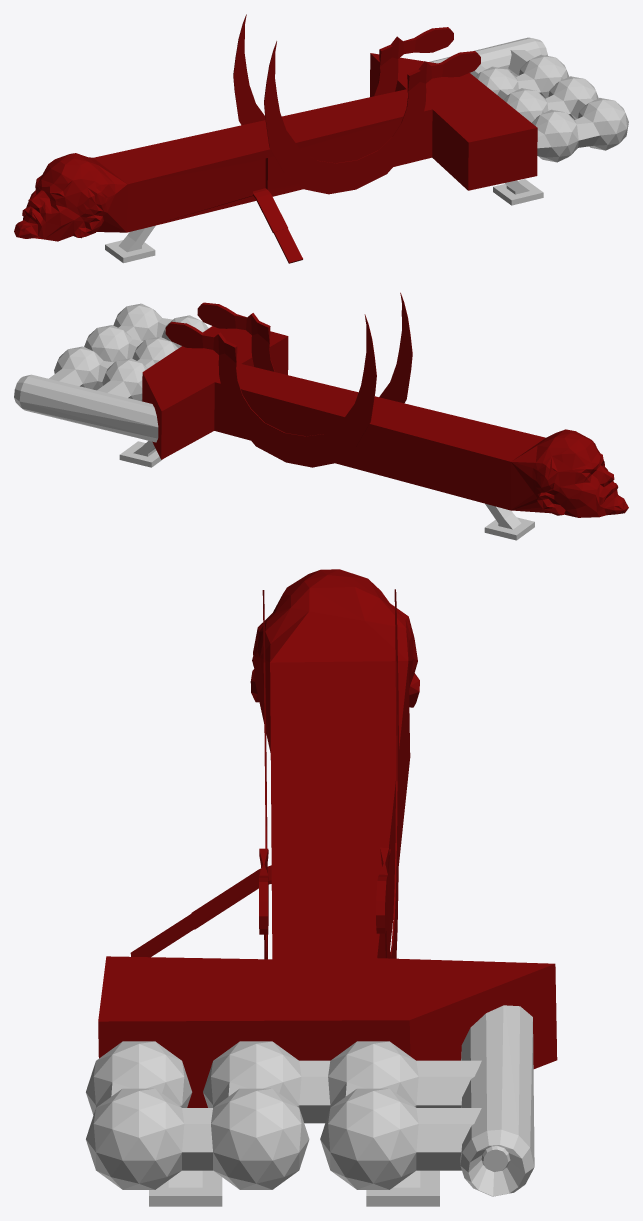
The model's file is cccp-vladivostok-3000.obj.
3 views of the same model, one above another, from view 1: azimuth 30°, elevation 25°; view 2: azimuth 150°, elevation 25°; view 3: azimuth 270°, elevation 25° (orthographic). The views are drawn at different scales.
Parts seen in each view (by area): view 1: vaisseau_Lenin.000, propulseur_Icosphere.000, faucille_Plane.000_faucille_Plane.000, faucille_Plane.002, tuillere_Cylinder.001, TA0_Cube.000, TA3_Cube.000; view 2: vaisseau_Lenin.000, faucille_Plane.002, propulseur_Icosphere.000, tuillere_Cylinder.001, faucille_Plane.000_faucille_Plane.000, TA0_Cube.000, TA1_Cube.000; view 3: vaisseau_Lenin.000, propulseur_Icosphere.000, tuillere_Cylinder.001, faucille_Plane.002, TA3_Cube.000, TA1_Cube.000, faucille_Plane.000_faucille_Plane.000.
Part boxes in pixels (bbox=[...]): vaisseau_Lenin.000: bbox=[14, 53, 537, 263]; propulseur_Icosphere.000: bbox=[470, 50, 628, 162]; faucille_Plane.000_faucille_Plane.000: bbox=[264, 41, 480, 194]; faucille_Plane.002: bbox=[233, 14, 453, 125]; tuillere_Cylinder.001: bbox=[429, 37, 547, 72]; TA0_Cube.000: bbox=[105, 225, 155, 263]; TA3_Cube.000: bbox=[493, 179, 543, 205]; vaisseau_Lenin.000: bbox=[142, 326, 628, 517]; faucille_Plane.002: bbox=[165, 314, 376, 467]; propulseur_Icosphere.000: bbox=[49, 303, 208, 401]; tuillere_Cylinder.001: bbox=[14, 374, 158, 442]; faucille_Plane.000_faucille_Plane.000: bbox=[197, 292, 412, 403]; TA0_Cube.000: bbox=[484, 503, 534, 540]; TA1_Cube.000: bbox=[119, 440, 163, 467]; vaisseau_Lenin.000: bbox=[98, 569, 557, 1107]; propulseur_Icosphere.000: bbox=[86, 1041, 481, 1189]; tuillere_Cylinder.001: bbox=[460, 1005, 534, 1196]; faucille_Plane.002: bbox=[376, 589, 399, 958]; TA3_Cube.000: bbox=[149, 1170, 222, 1206]; TA1_Cube.000: bbox=[366, 1170, 439, 1206]; faucille_Plane.000_faucille_Plane.000: bbox=[259, 590, 268, 959].
Size of the model in its own units: 354 by 117 by 128.
